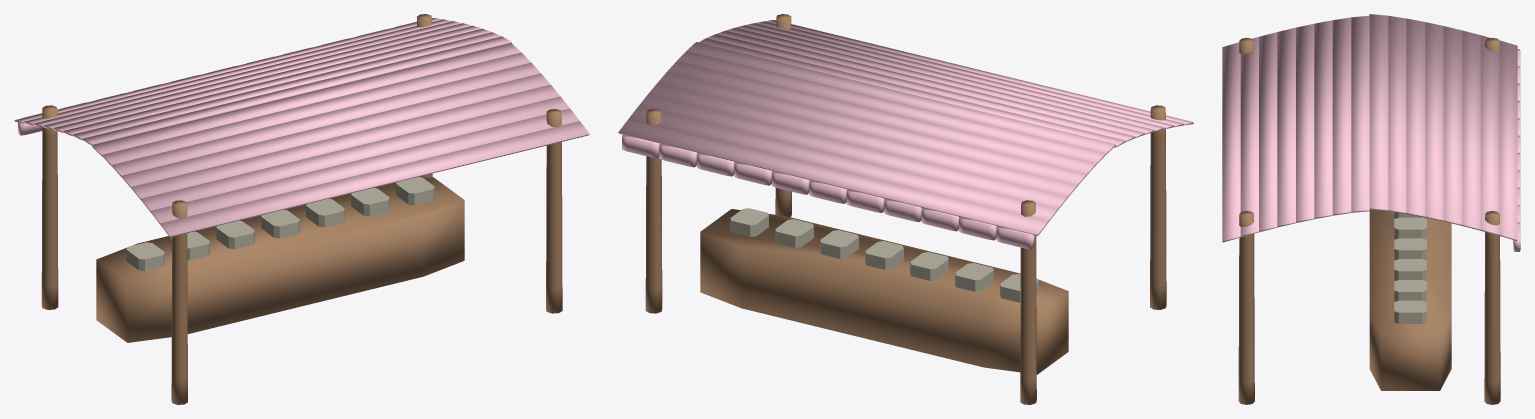
Rendered from SpringShopBase.fbx.
3 views of the same model, side by side, from view 1: azimuth 30°, elevation 25°; view 2: azimuth 150°, elevation 25°; view 3: azimuth 270°, elevation 25° (orthographic). The views are drawn at different scales.
Visible parts, largest first — view 1: Canopy, Counter, TimberFrame, DisplayBowls; view 2: Canopy, Counter, TimberFrame, DisplayBowls; view 3: Canopy, Counter, TimberFrame, DisplayBowls.
Part boxes in pixels (x1,y1,x2,y2): Canopy: [14, 18, 589, 237]; Counter: [96, 177, 464, 342]; TimberFrame: [41, 14, 562, 404]; DisplayBowls: [126, 177, 434, 271]; Canopy: [618, 20, 1193, 249]; Counter: [700, 209, 1068, 374]; TimberFrame: [645, 14, 1166, 404]; DisplayBowls: [730, 208, 1038, 302]; Canopy: [1222, 14, 1520, 251]; Counter: [1369, 209, 1451, 390]; TimberFrame: [1238, 37, 1500, 404]; DisplayBowls: [1394, 212, 1426, 323].
Bounding box in the file's own units: 1120 × 549 × 729.
